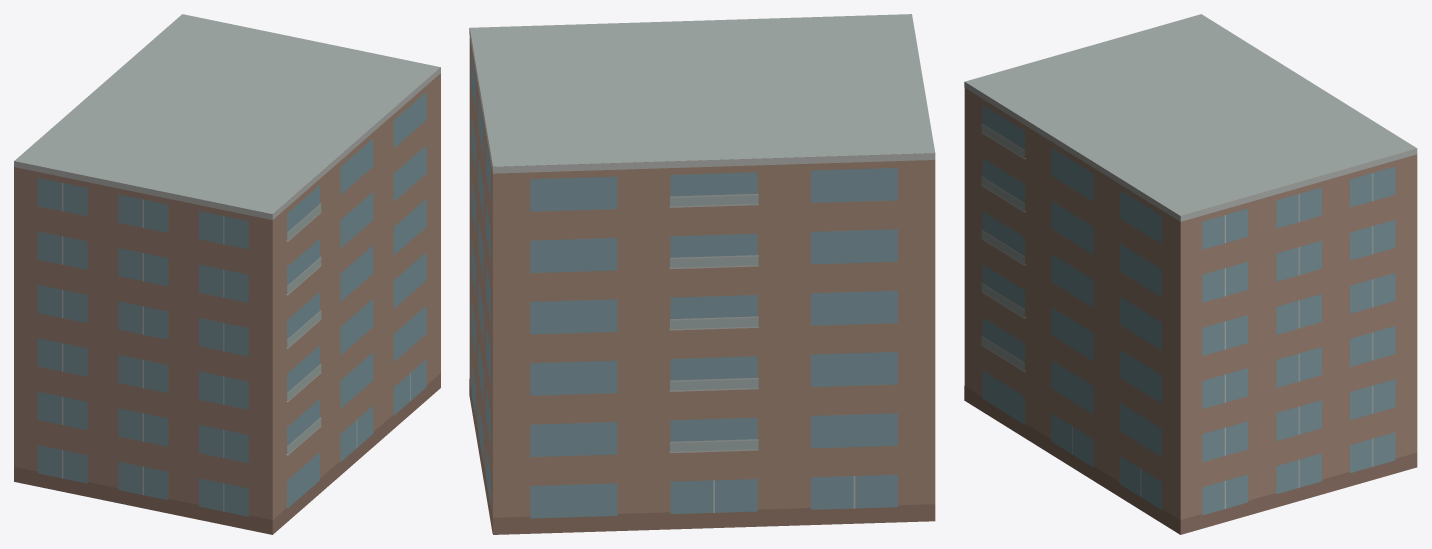
The model's file is survey-upis-32966883.glb.
3 renders of one model, left to right at view 1: azimuth 30°, elevation 25°; view 2: azimuth 150°, elevation 25°; view 3: azimuth 270°, elevation 25°, orthographic. The views are drawn at different scales.
Visible parts, largest first — view 1: survey-upis-32966883.tmp; view 2: survey-upis-32966883.tmp; view 3: survey-upis-32966883.tmp.
Part boxes in pixels (box(x1,y1,x2,y2)): survey-upis-32966883.tmp: box(14, 14, 440, 534); survey-upis-32966883.tmp: box(469, 14, 935, 534); survey-upis-32966883.tmp: box(964, 14, 1417, 534).
Size of the model in its own units: 17.94 by 13.2 by 16.99.
